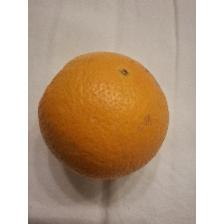Mandarine: (36, 46, 173, 182)
